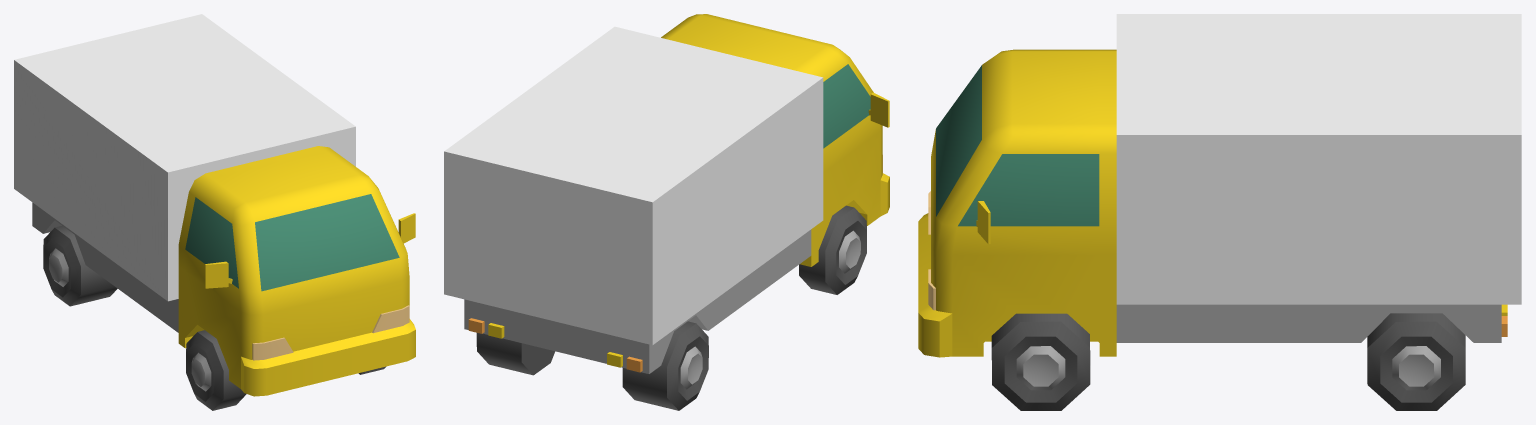
Rendered from Town_Vehicle_Truck.FBX.
The picture shows the model from 3 angles, left to right: view 1: azimuth 30°, elevation 25°; view 2: azimuth 150°, elevation 25°; view 3: azimuth 270°, elevation 25°; orthographic projection. The views are drawn at different scales.
Parts seen in each view (by area): view 1: Vehicle_Truck; view 2: Vehicle_Truck; view 3: Vehicle_Truck.
Part boxes in pixels (bbox=[...]): Vehicle_Truck: bbox=[14, 14, 415, 410]; Vehicle_Truck: bbox=[444, 14, 889, 410]; Vehicle_Truck: bbox=[918, 14, 1521, 410].
Bounding box in the file's own units: 146 × 143 × 277.
